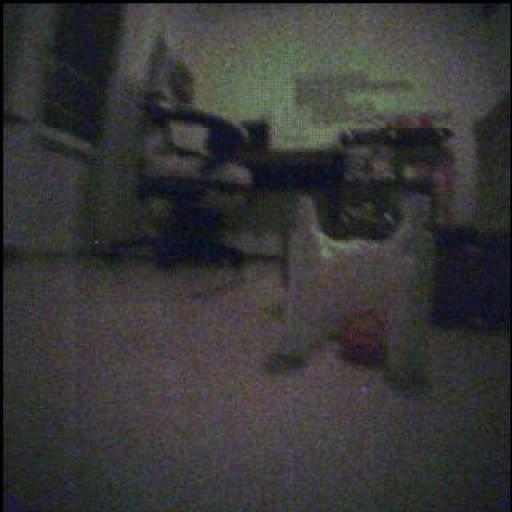basket: (342, 312, 387, 365)
